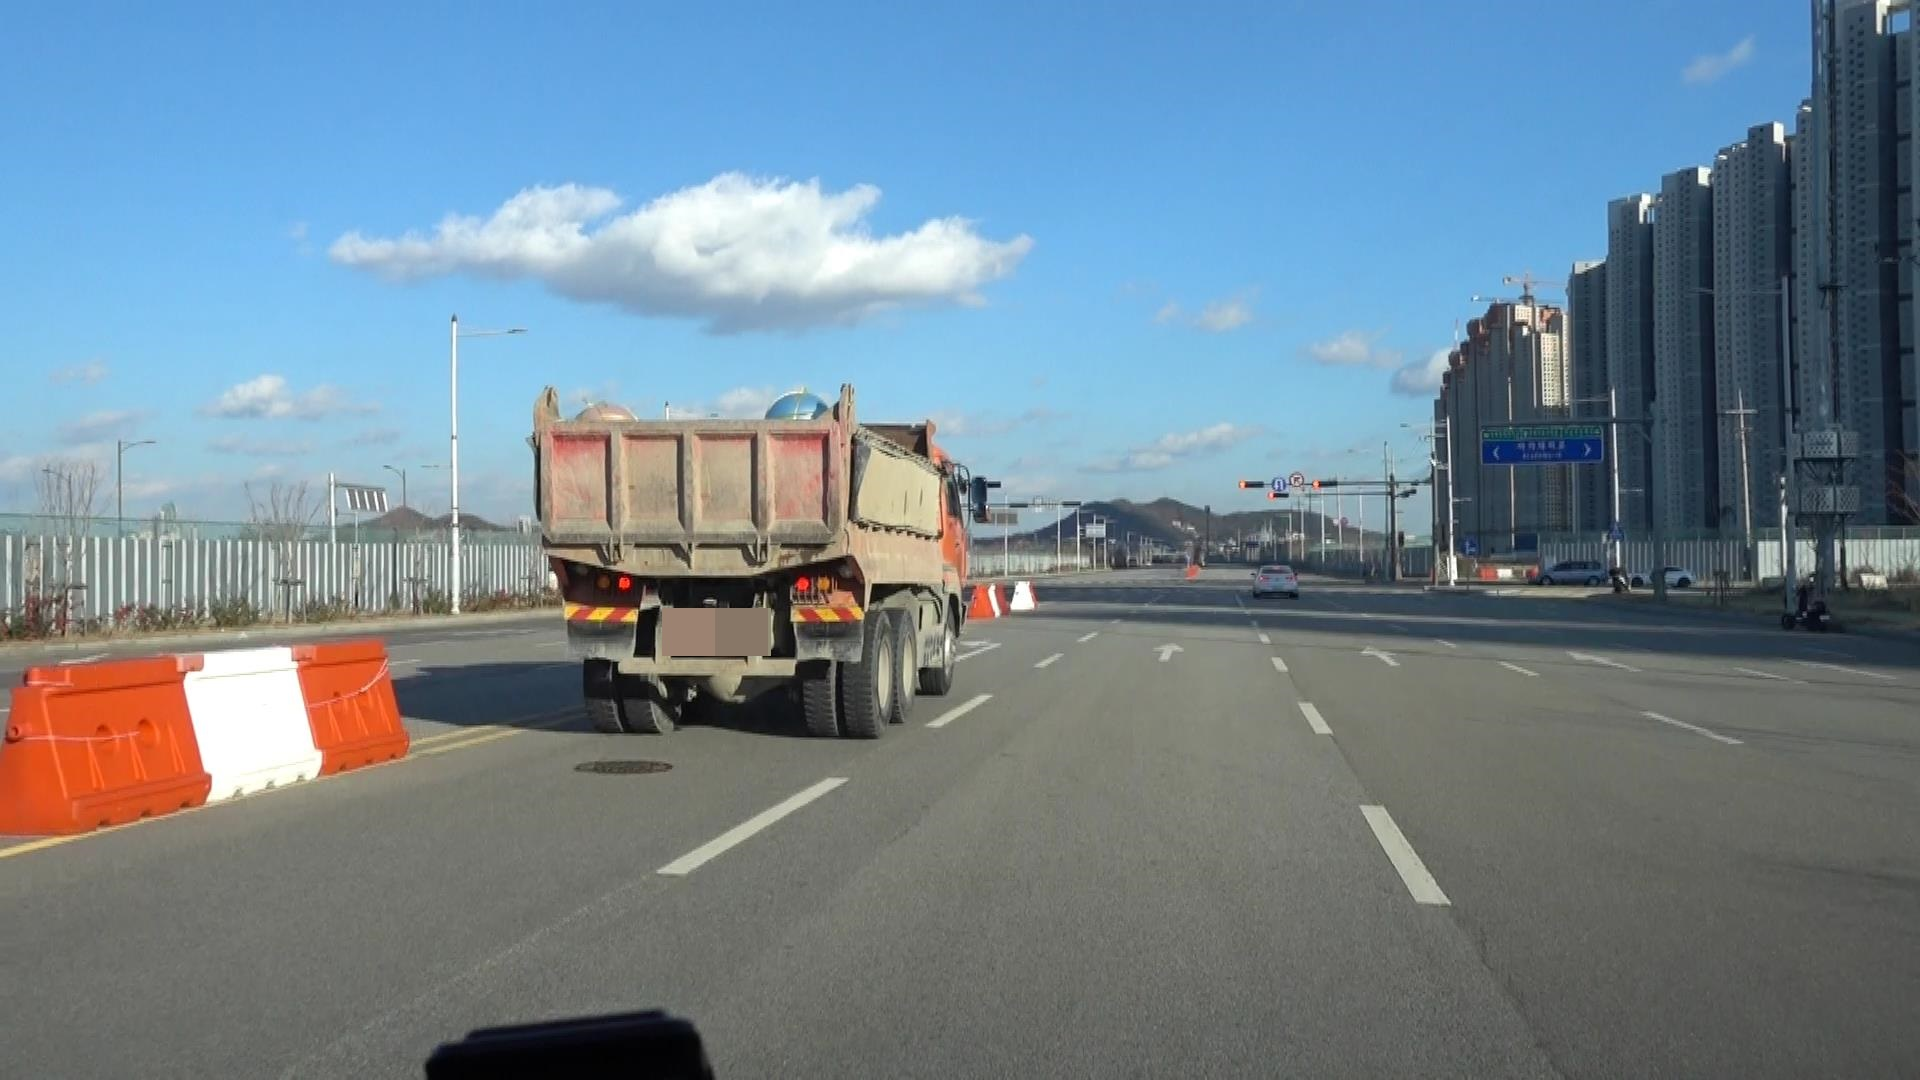불법차량: (526, 381, 987, 740)
